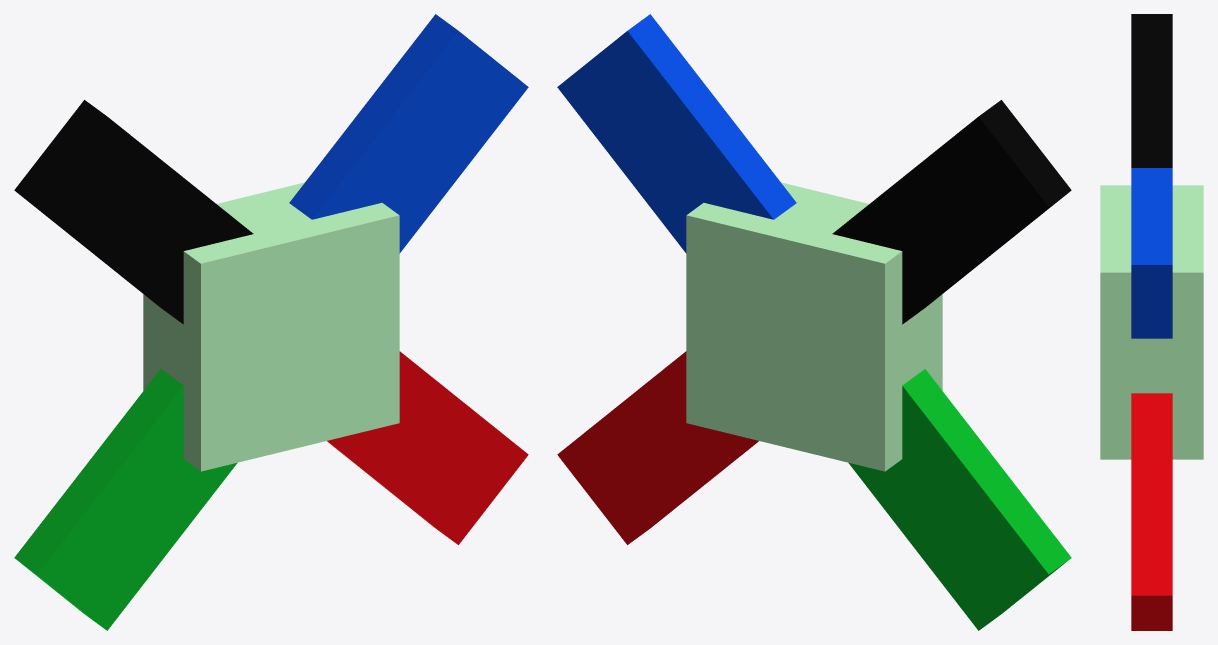
3 views of the same model, side by side, from view 1: azimuth 30°, elevation 25°; view 2: azimuth 150°, elevation 25°; view 3: azimuth 270°, elevation 25° (orthographic). The views are drawn at different scales.
Visible parts, largest first — view 1: Cube.001; view 2: Cube.001; view 3: Cube.001.
Boxes of the visible parts, x1=… form: Cube.001: x1=14, y1=14, x2=528, y2=630; Cube.001: x1=557, y1=14, x2=1071, y2=630; Cube.001: x1=1100, y1=14, x2=1203, y2=630.
Bounding box in the file's own units: 247 × 247 × 50.
